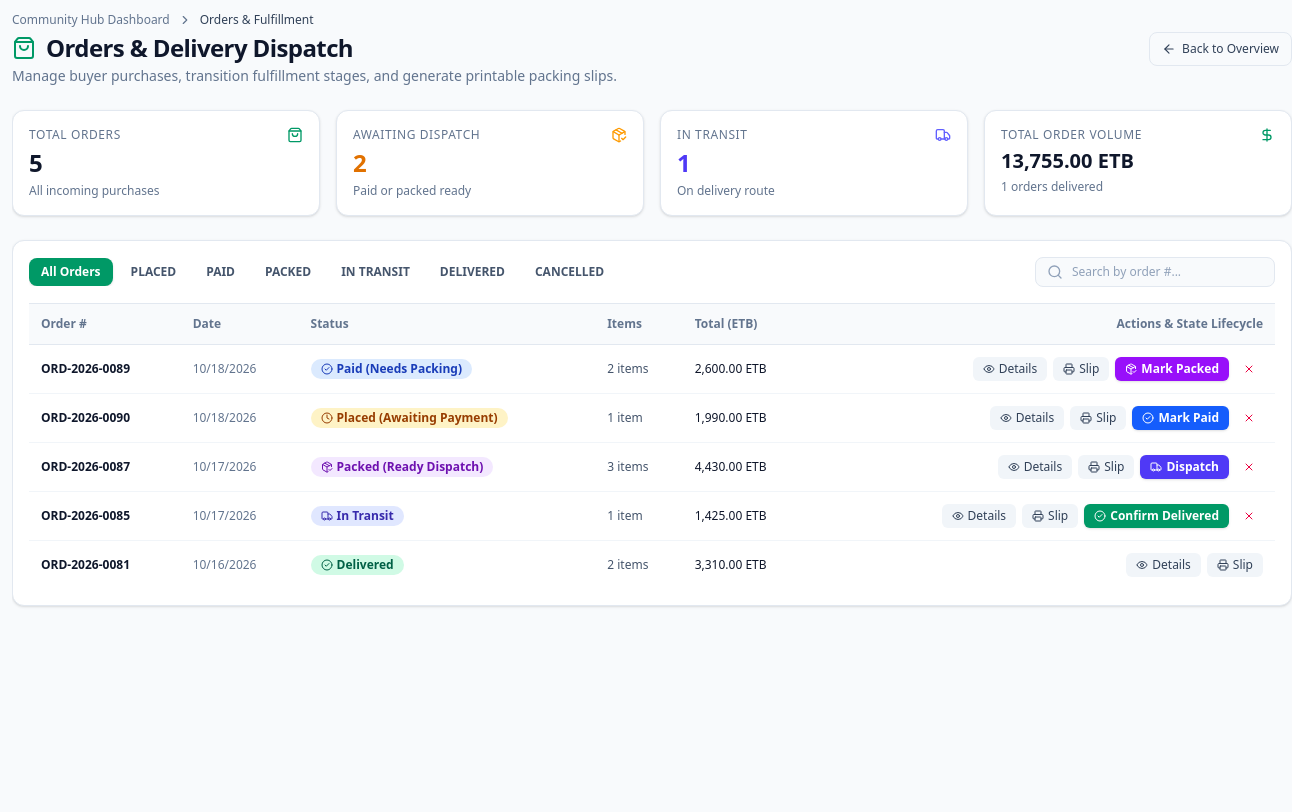
EnterpriseOrdersPage Component (F-909) › searches orders by order number
Expected: the text "ORD-2026-0089" is shown, [29, 344, 181, 394]
In the field with test id "search-orders-input": (1155, 272) [1035, 257, 1275, 287], type "0087"
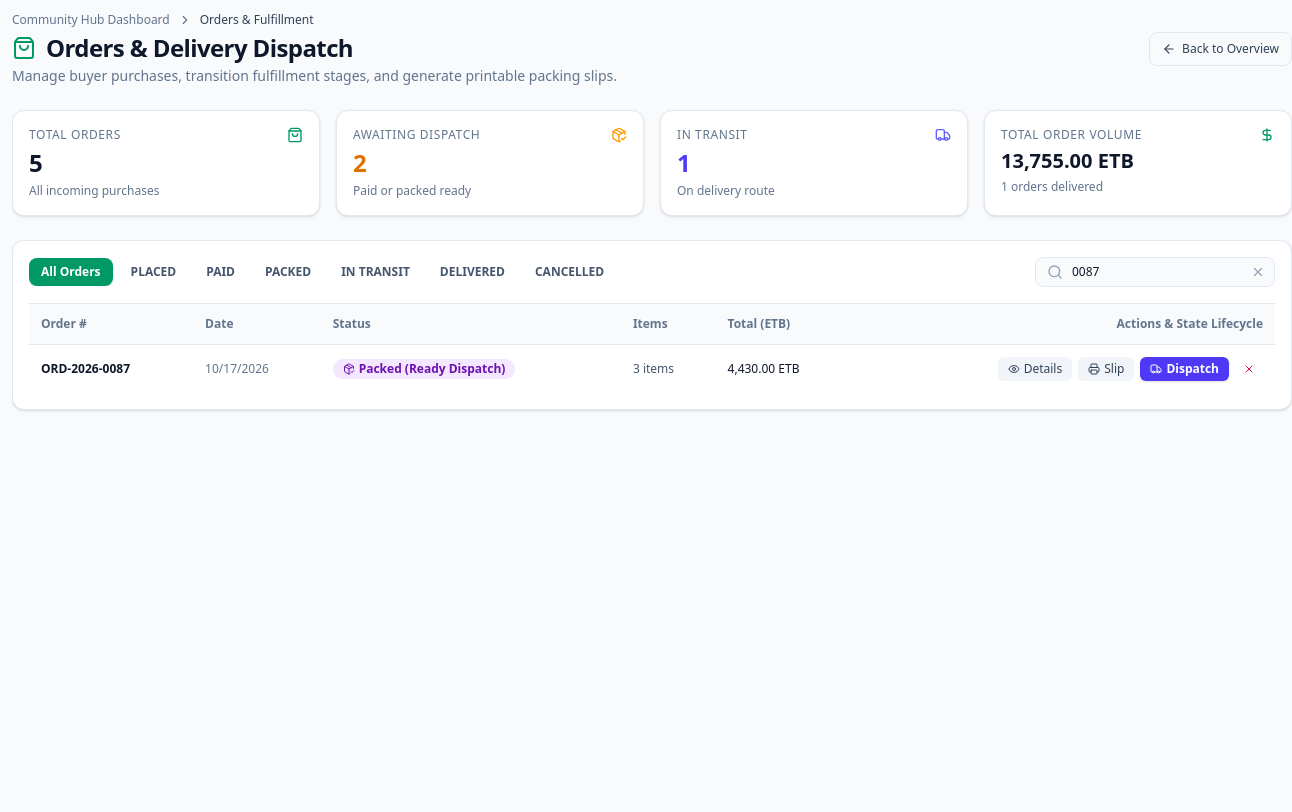
Expected: the text "ORD-2026-0087" is shown, [29, 344, 193, 393]
Now the text "ORD-2026-0089" is gone
Now the text "ORD-2026-0090" is gone
